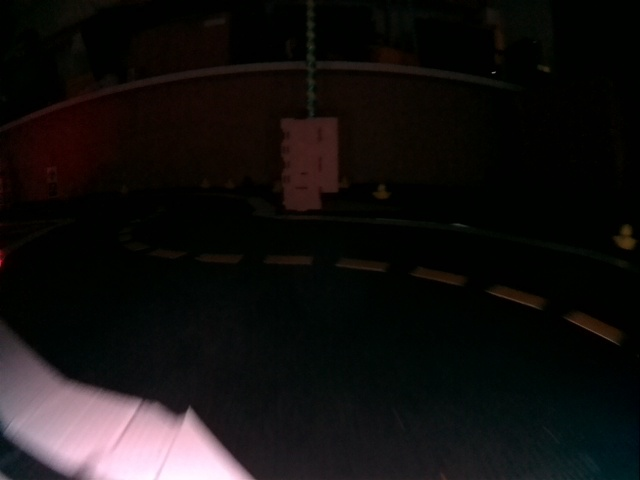Duckie: (615, 225, 634, 249), (376, 185, 389, 199)
